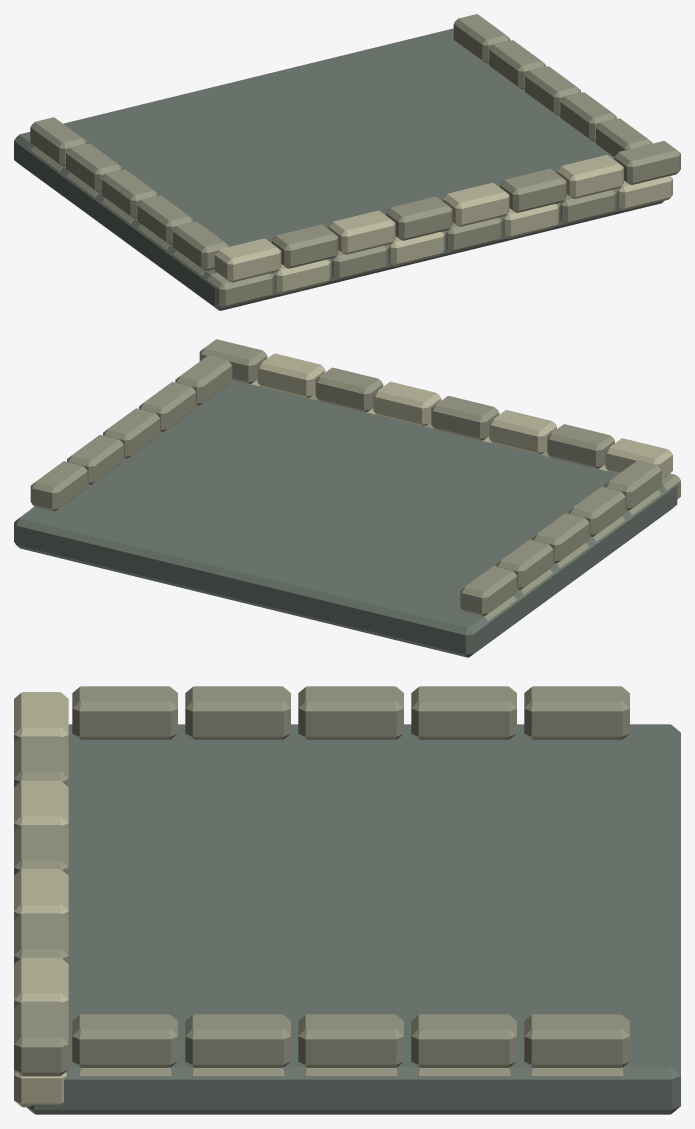
Rendered from CottageFoundation.glb.
3 renders of one model, top to bottom at view 1: azimuth 30°, elevation 25°; view 2: azimuth 150°, elevation 25°; view 3: azimuth 270°, elevation 25°, orthographic. The views are drawn at different scales.
Parts seen in each view (by area): view 1: CottageFoundation; view 2: CottageFoundation; view 3: CottageFoundation.
Part boxes in pixels (left/top/right/bottom): CottageFoundation: left=14, top=14, right=680, bottom=310; CottageFoundation: left=14, top=339, right=680, bottom=657; CottageFoundation: left=14, top=686, right=680, bottom=1114.
Size of the model in its own units: 4.7 by 0.52 by 3.7.
